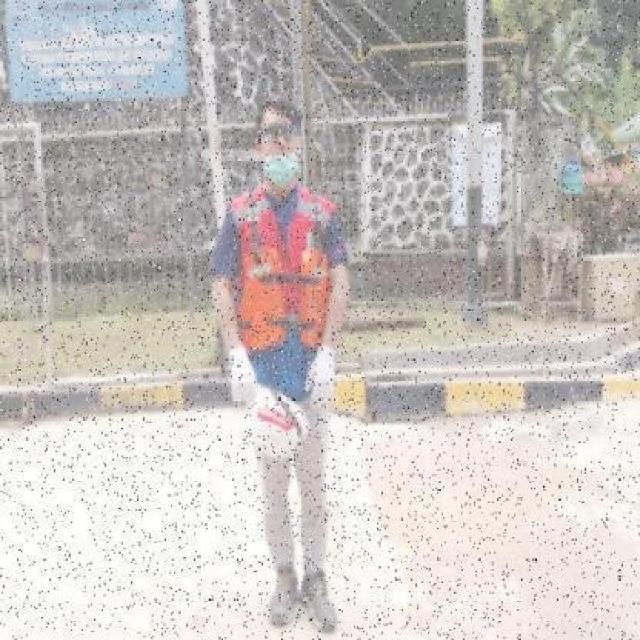Boots: (298, 569, 338, 633), (269, 567, 296, 628)
Gloves: (304, 341, 336, 408), (226, 344, 256, 405)
Helmet: (248, 385, 312, 460)
Mask: (265, 152, 300, 188)
Protective Glasses: (259, 125, 299, 142)
Vest: (236, 250, 329, 345)
